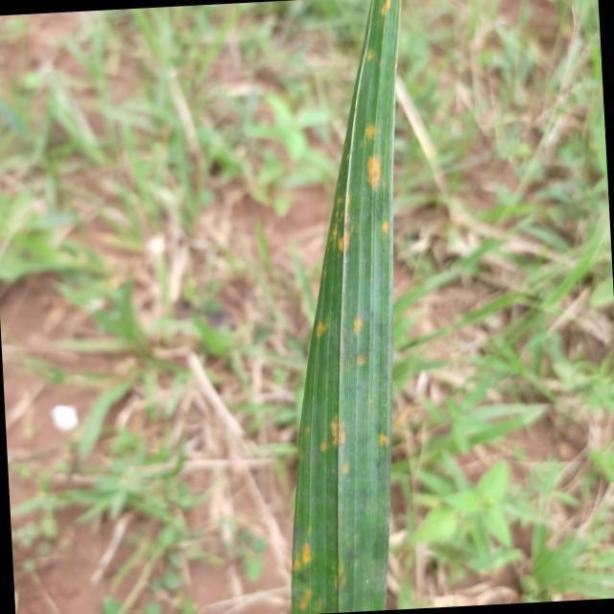Kalium: (294, 0, 400, 614)
